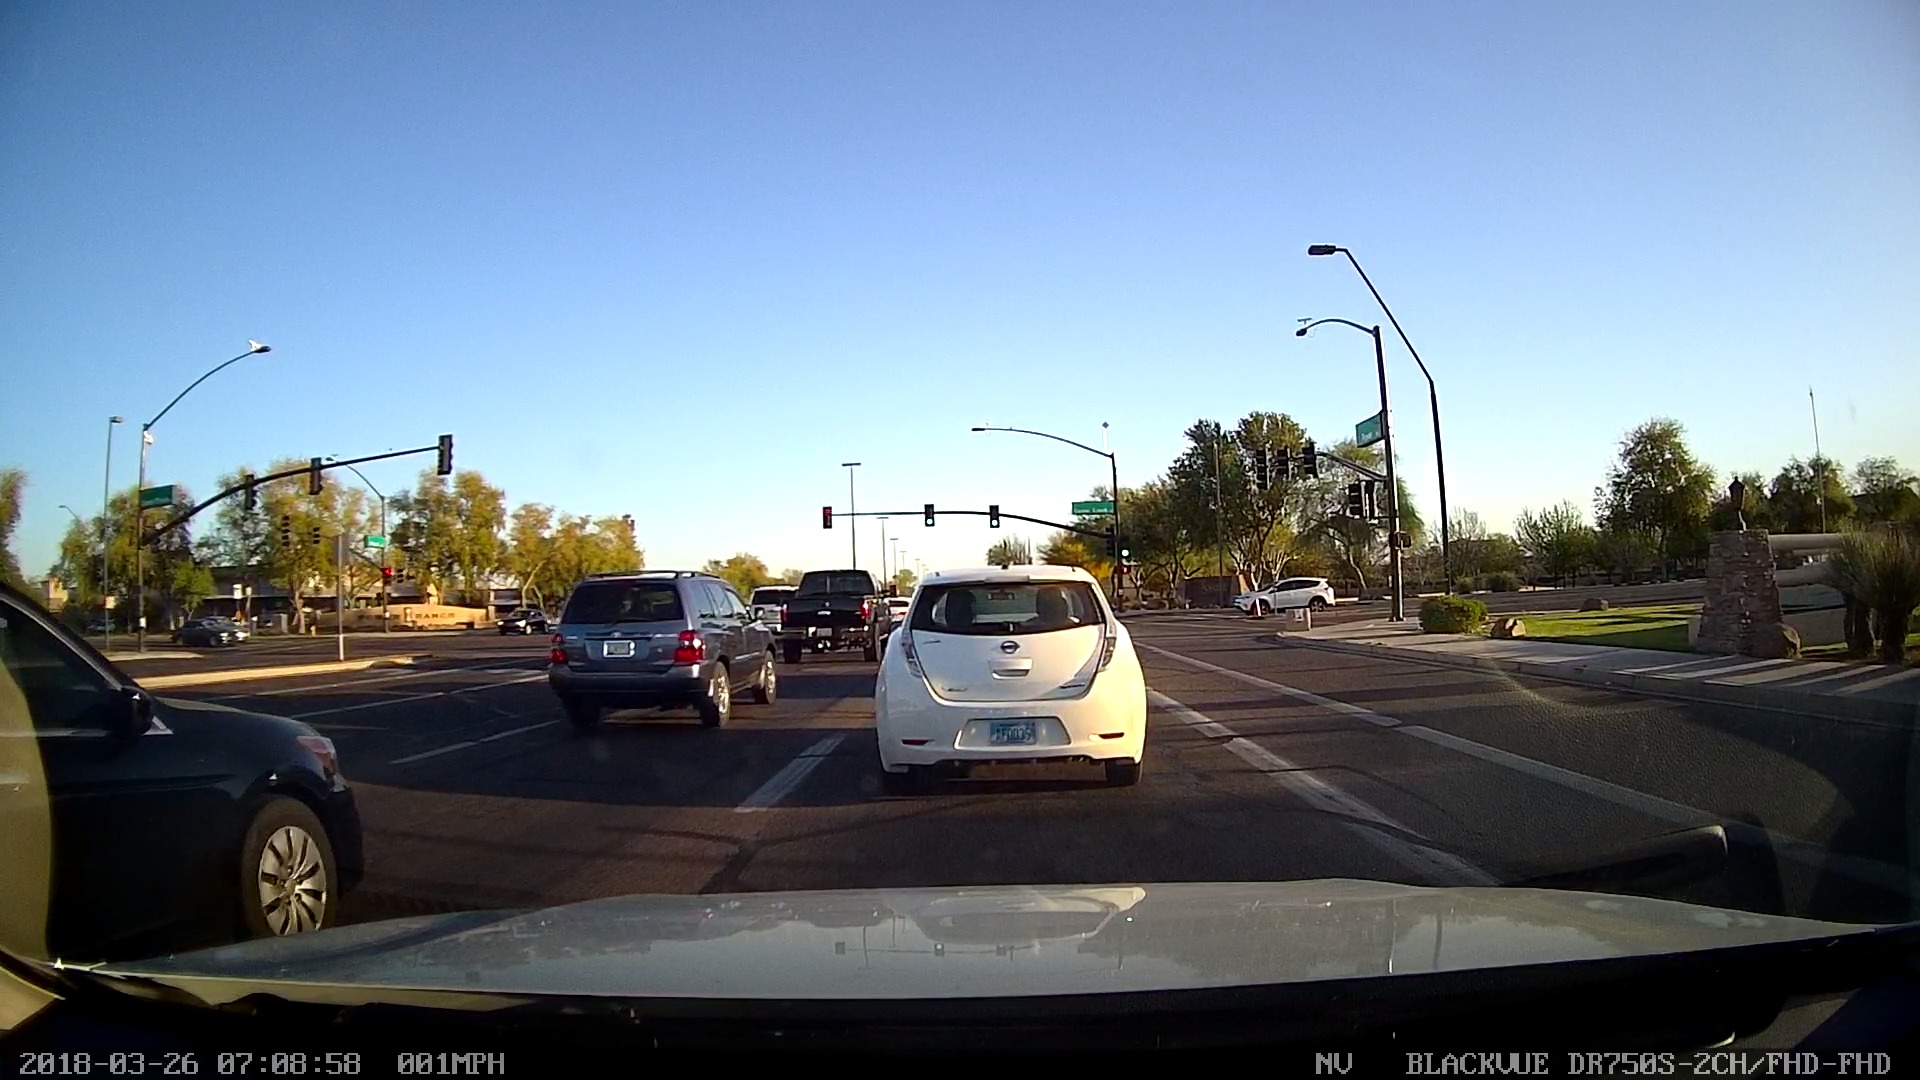vehicle: (0, 556, 367, 975), (866, 559, 1156, 796), (491, 535, 799, 750), (738, 535, 916, 680), (1224, 545, 1338, 638), (967, 708, 1058, 756), (574, 624, 651, 670)
